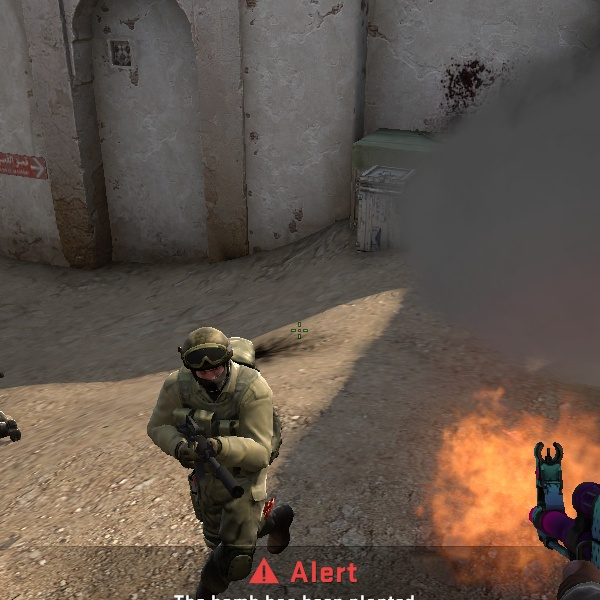ct_body: (142, 330, 285, 594)
ct_head: (181, 335, 242, 395)
